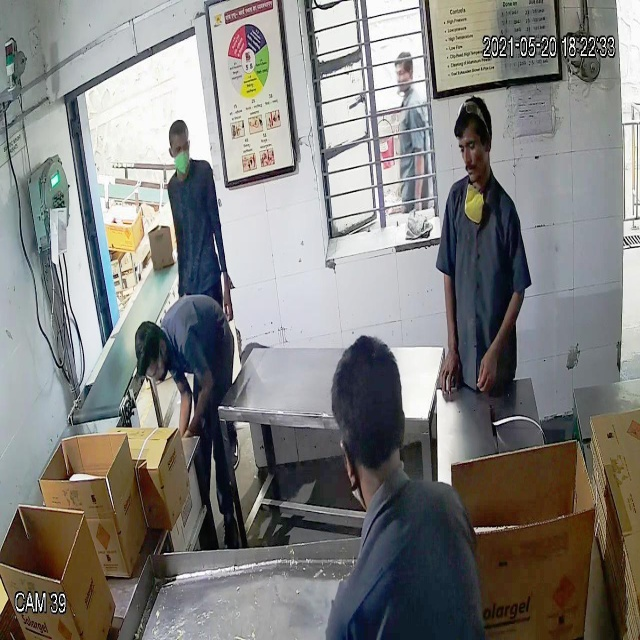Sin_gafas: (457, 131, 489, 162)
